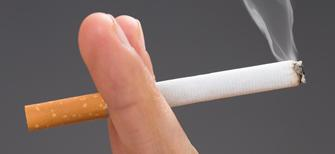smoke: (23, 60, 308, 133)
